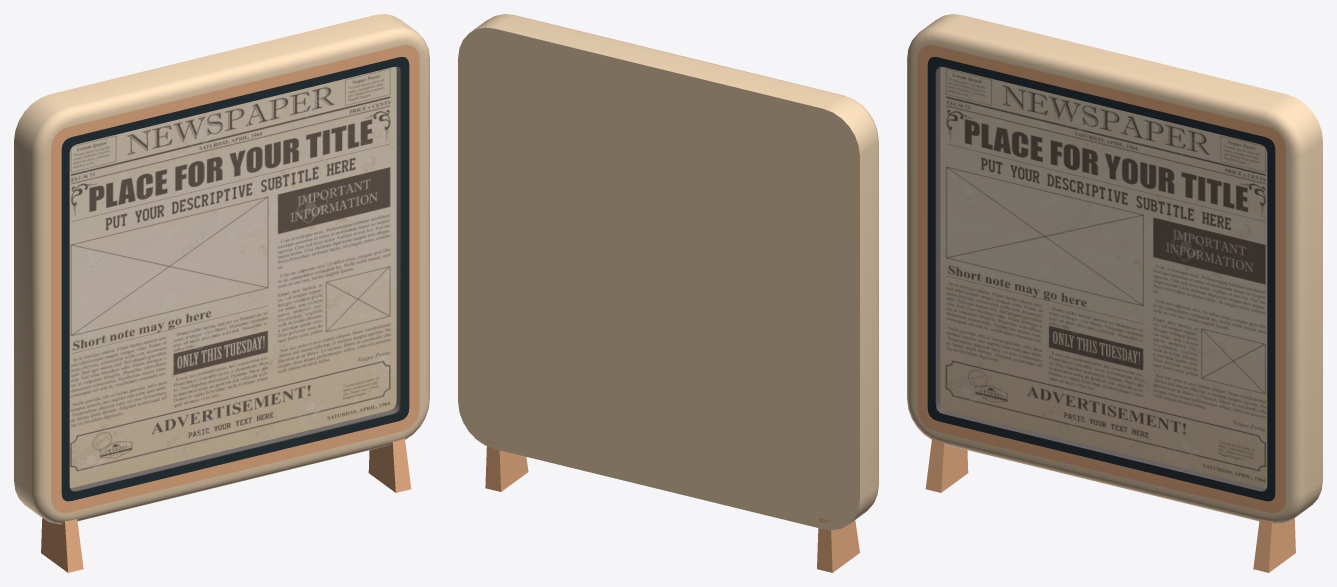
The model's file is billboard.fbx.
The picture shows the model from 3 angles, left to right: view 1: azimuth 30°, elevation 25°; view 2: azimuth 150°, elevation 25°; view 3: azimuth 330°, elevation 25°; orthographic projection.
Visible parts, largest first — view 1: Plane, Cube; view 2: Plane, Cube; view 3: Plane, Cube.
Boxes of the visible parts, <box> form: Plane: <box>14,14,429,524</box>; Cube: <box>41,438,411,572</box>; Plane: <box>458,14,878,530</box>; Cube: <box>485,437,859,572</box>; Plane: <box>907,14,1322,524</box>; Cube: <box>925,438,1295,572</box>.
Bounding box in the file's own units: 200 × 220 × 23.69.
Materials: 6 (1 with a texture image).
